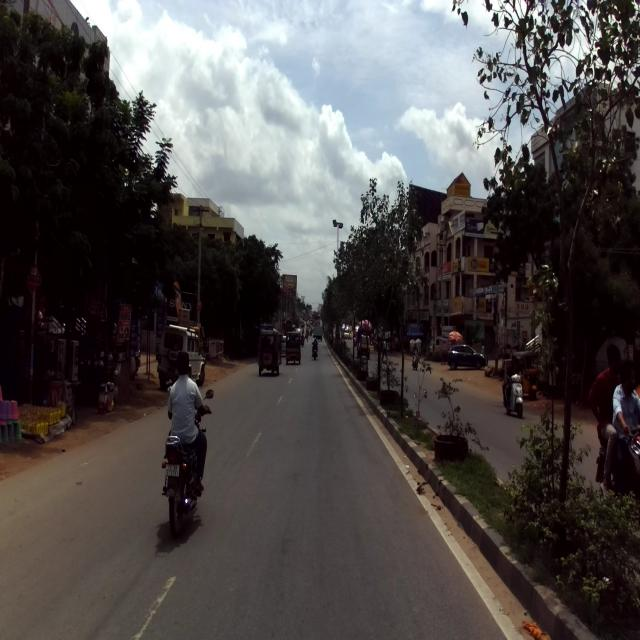car: (155, 323, 205, 388)
motorcycle: (161, 388, 214, 538), (596, 422, 639, 514)
scooter: (502, 372, 524, 418)
